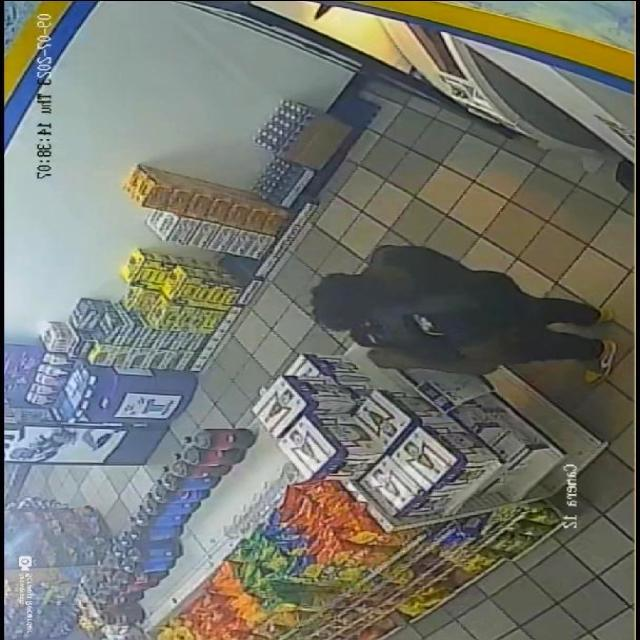Shoplifting: (276, 216, 640, 423)
